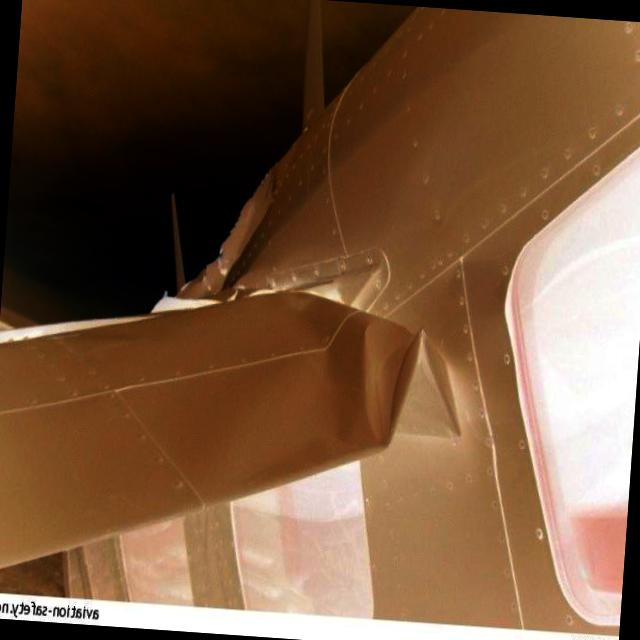dent: (352, 302, 482, 466)
